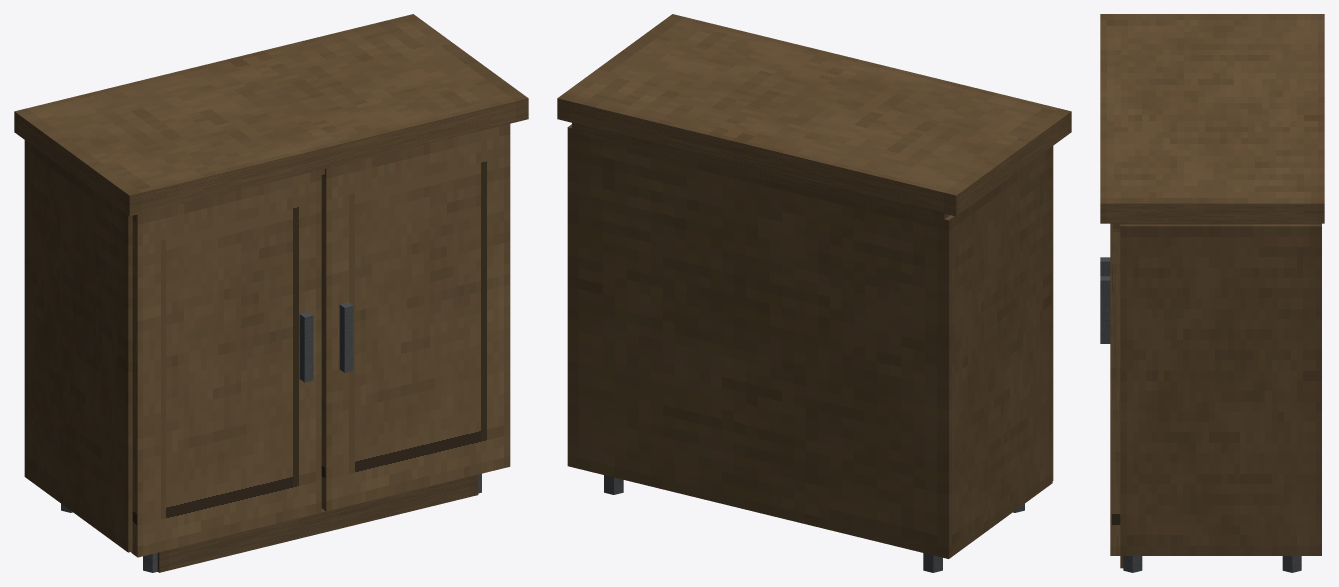
Rendered from cabinet.glb.
3 renders of one model, left to right at view 1: azimuth 30°, elevation 25°; view 2: azimuth 150°, elevation 25°; view 3: azimuth 270°, elevation 25°, orthographic. The views are drawn at different scales.
Visible parts, largest first — view 1: core_cabinet; view 2: core_cabinet; view 3: core_cabinet.
Boxes of the visible parts, x1,y1,x2,y2 form: core_cabinet: (14, 14, 528, 572); core_cabinet: (557, 14, 1071, 572); core_cabinet: (1100, 14, 1324, 572).
Size of the model in its own units: 0.9 by 0.85 by 0.45.
Materials: 1 (1 with a texture image).
